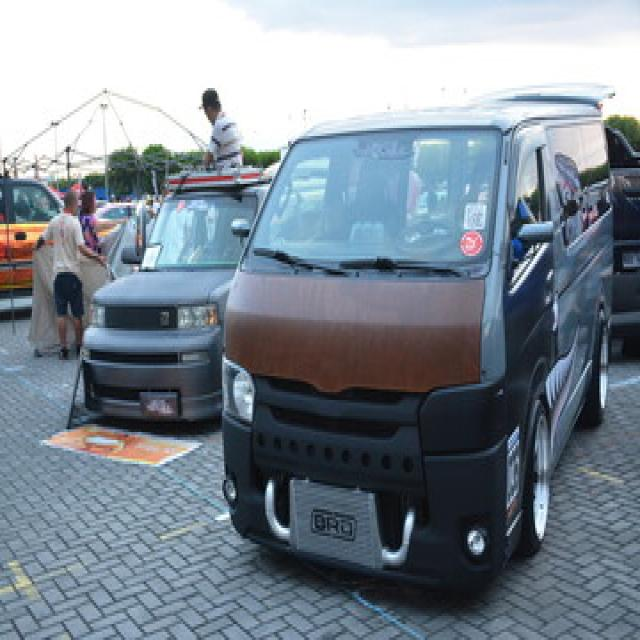person: (37, 192, 103, 357), (203, 91, 240, 168), (80, 189, 98, 253)
van: (222, 88, 612, 584), (84, 168, 267, 419), (0, 179, 60, 291)
